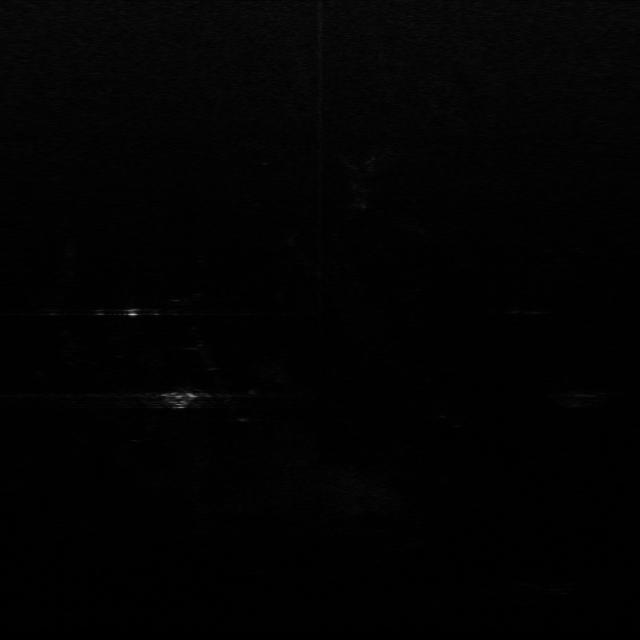rov: (162, 388, 200, 412)
